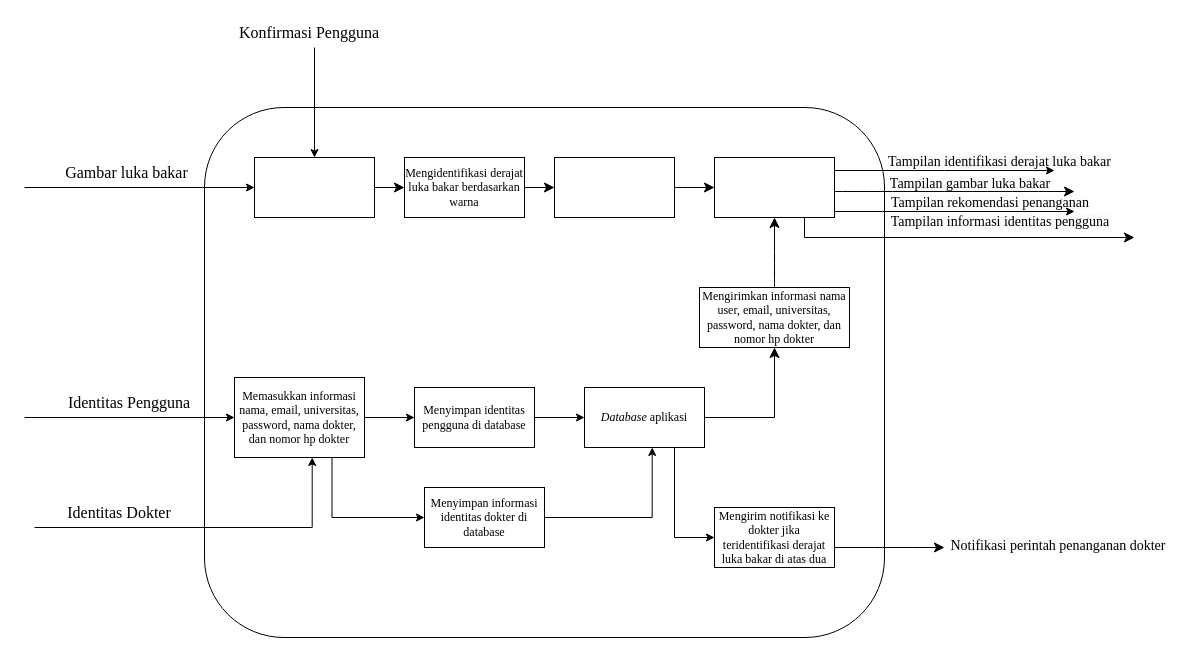
The diagram is 1186 pixels wide and 655 high, and some of its shapes have lost their labels. Each missing label, with the centre of its shape:
"Display Aplikasi" belongs at (774,187).
"Menampilkan pratinjau gambar dari kamera" belongs at (314,187).
"Mengirim informasi derajat luka bakar dan gambar luka bakar ke display aplikasi" belongs at (614,187).
